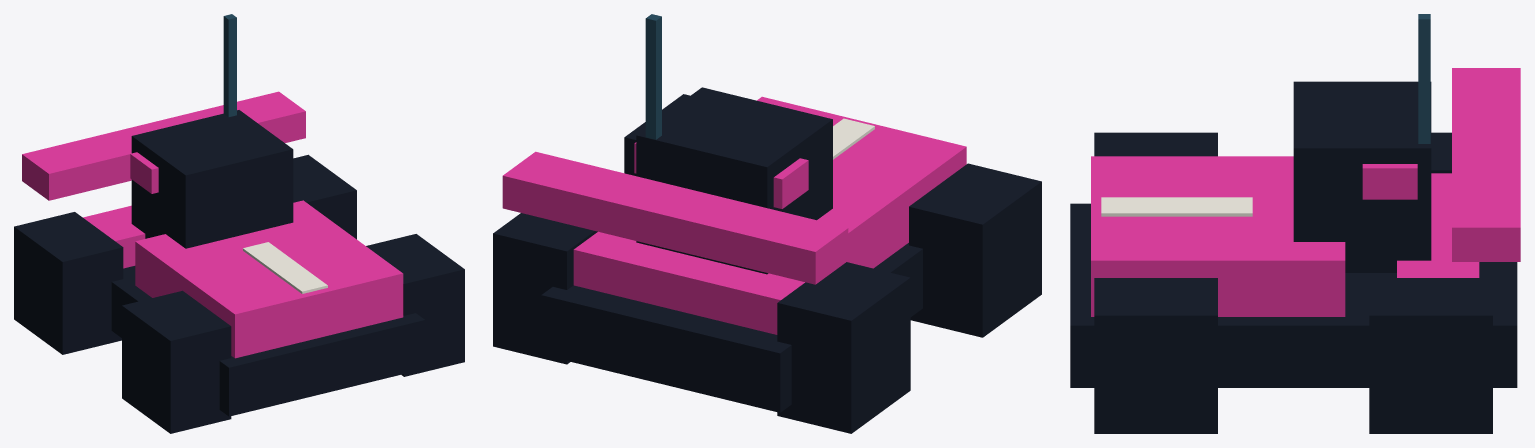
Rendered from kart-1.glb.
3 views of the same model, side by side, from view 1: azimuth 30°, elevation 25°; view 2: azimuth 150°, elevation 25°; view 3: azimuth 270°, elevation 25° (orthographic). The views are drawn at different scales.
Visible parts, largest first — view 1: track-part-3, track-part-1, track-part-2, track-part-0; view 2: track-part-3, track-part-1, track-part-0, track-part-2; view 3: track-part-3, track-part-1, track-part-2, track-part-0.
Part boxes in pixels (box(x1,y1,x2,y2)): track-part-3: box(14, 110, 464, 433); track-part-1: box(22, 91, 403, 358); track-part-2: box(243, 242, 327, 293); track-part-0: box(223, 14, 236, 117); track-part-3: box(493, 87, 1041, 433); track-part-1: box(502, 96, 966, 334); track-part-0: box(645, 14, 661, 139); track-part-2: box(833, 118, 874, 159); track-part-3: box(1070, 81, 1517, 433); track-part-1: box(1091, 68, 1520, 316); track-part-2: box(1101, 197, 1252, 216); track-part-0: box(1418, 14, 1430, 143).
Bounding box in the file's own units: 0.63 × 0.565 × 0.655.
